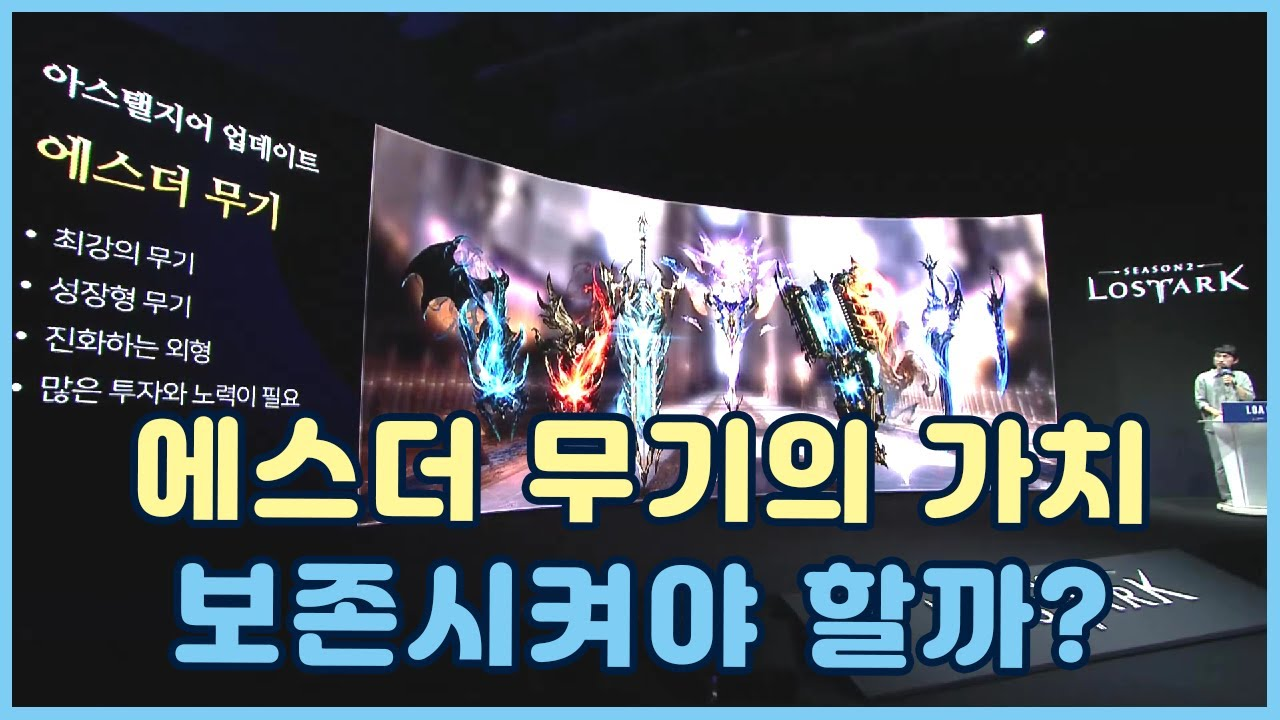가치: (918, 414, 1149, 531)
무기의: (525, 414, 875, 528)
보존시켜야: (170, 558, 759, 671)
에스더: (129, 411, 480, 528)
할까?: (797, 555, 1112, 678)
